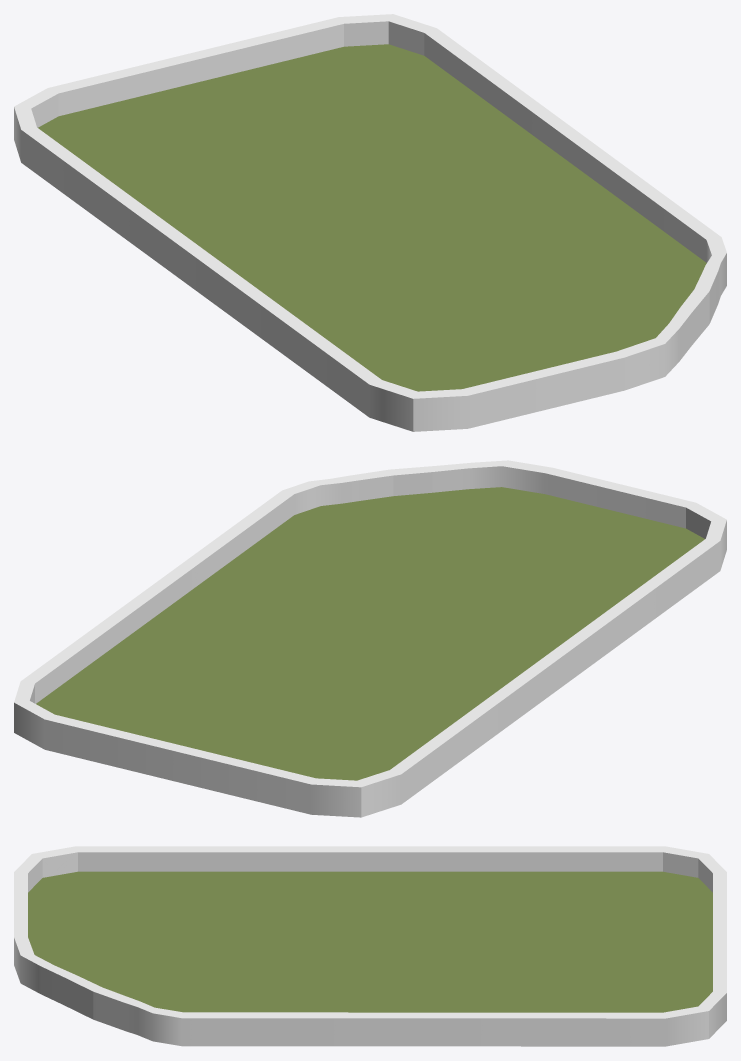
Rendered from roundabout block.fbx.
3 renders of one model, top to bottom at view 1: azimuth 30°, elevation 25°; view 2: azimuth 150°, elevation 25°; view 3: azimuth 270°, elevation 25°, orthographic. The views are drawn at different scales.
Visible parts, largest first — view 1: patter_de_maison_de_base17; view 2: patter_de_maison_de_base17; view 3: patter_de_maison_de_base17.
Boxes of the visible parts, x1,y1,x2,y2 form: patter_de_maison_de_base17: [14, 14, 726, 431]; patter_de_maison_de_base17: [14, 460, 726, 817]; patter_de_maison_de_base17: [14, 846, 726, 1046].
Bounding box in the file's own units: 11394 × 866 × 19949.
